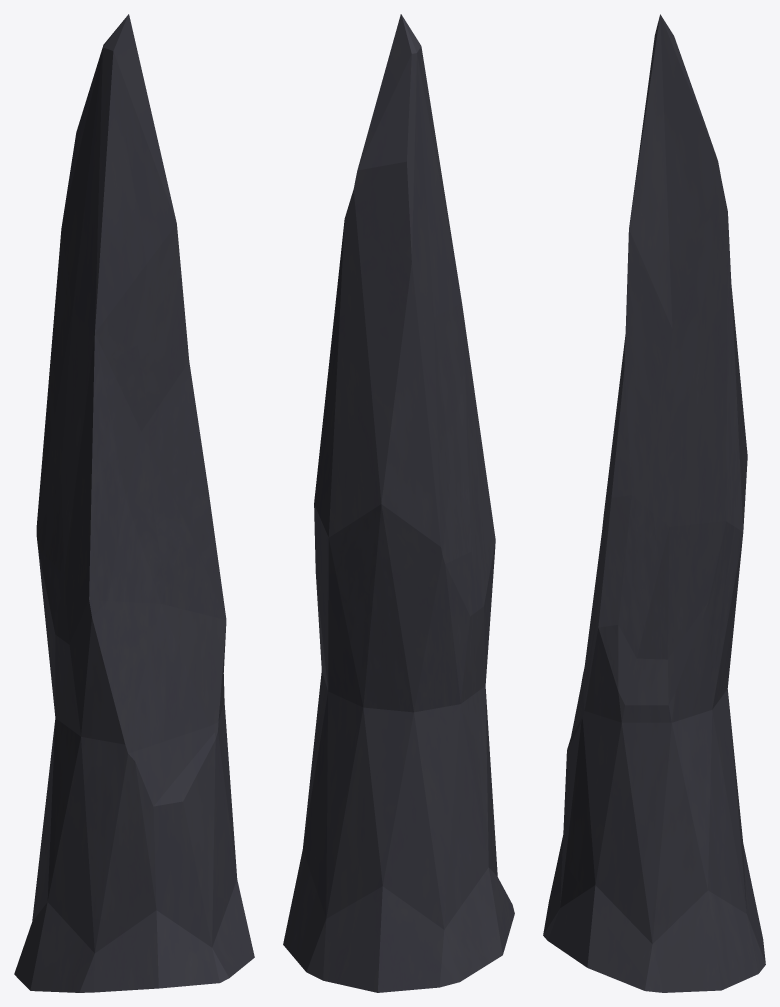
File: stonicle 2.fbx
3 renders of one model, left to right at view 1: azimuth 30°, elevation 25°; view 2: azimuth 150°, elevation 25°; view 3: azimuth 270°, elevation 25°, orthographic. The views are drawn at different scales.
Parts seen in each view (by area): view 1: Icosphere; view 2: Icosphere; view 3: Icosphere.
Part boxes in pixels (box(x1,y1,x2,y2)): Icosphere: box(14, 14, 254, 992); Icosphere: box(283, 14, 514, 992); Icosphere: box(543, 14, 765, 992).
Bounding box in the file's own units: 273 × 1181 × 254.
